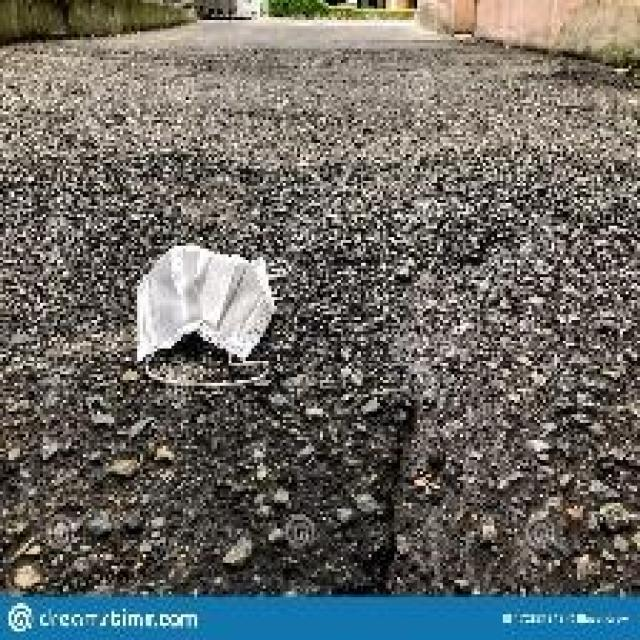Mask: (113, 236, 330, 418)
